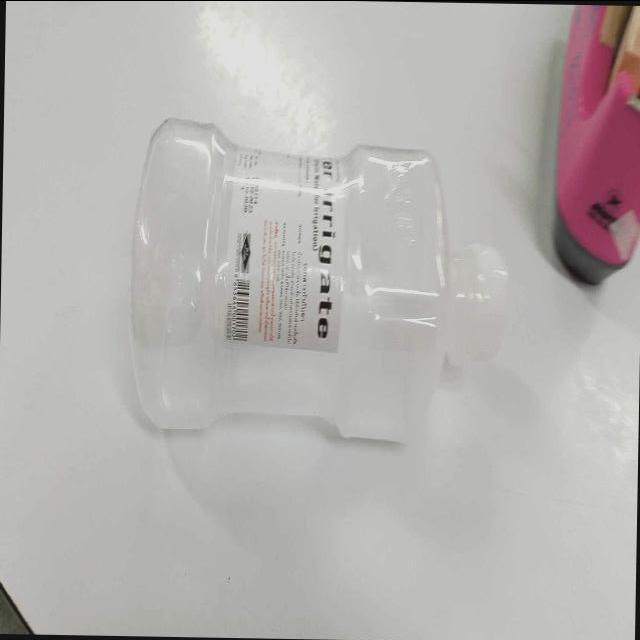General: (221, 165, 342, 355)
Infectious: (127, 117, 452, 445)
Sharps: (550, 5, 639, 286)
